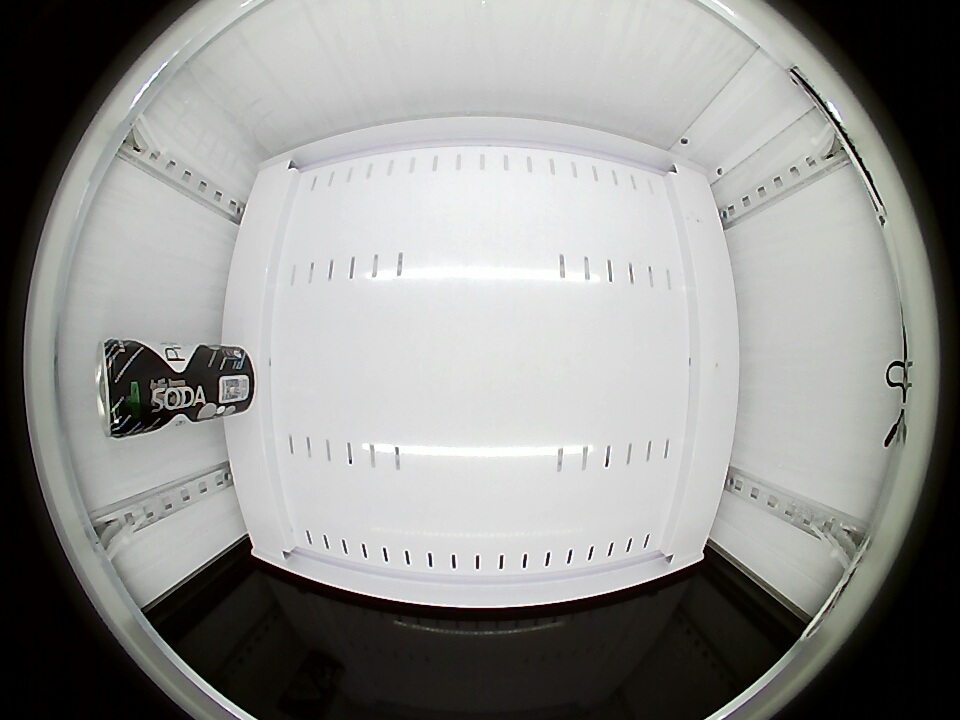qingdaowangzi-1: (96, 338, 150, 439)
